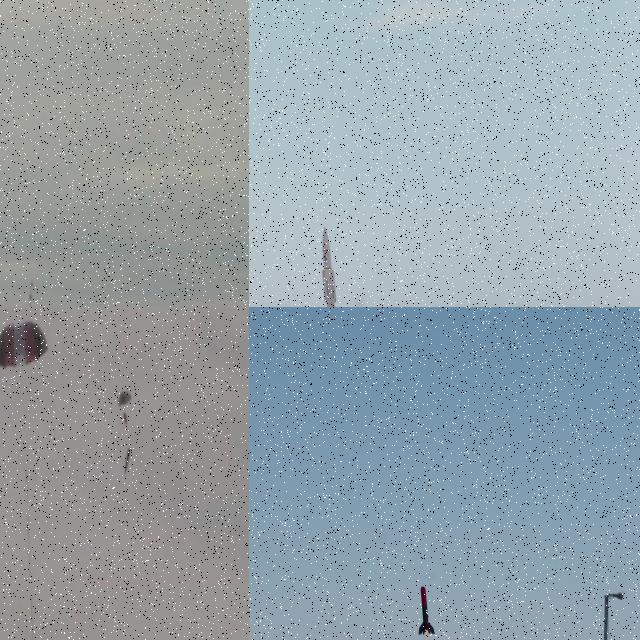Rocket: (312, 225, 352, 307), (418, 586, 436, 635), (26, 279, 34, 307)
